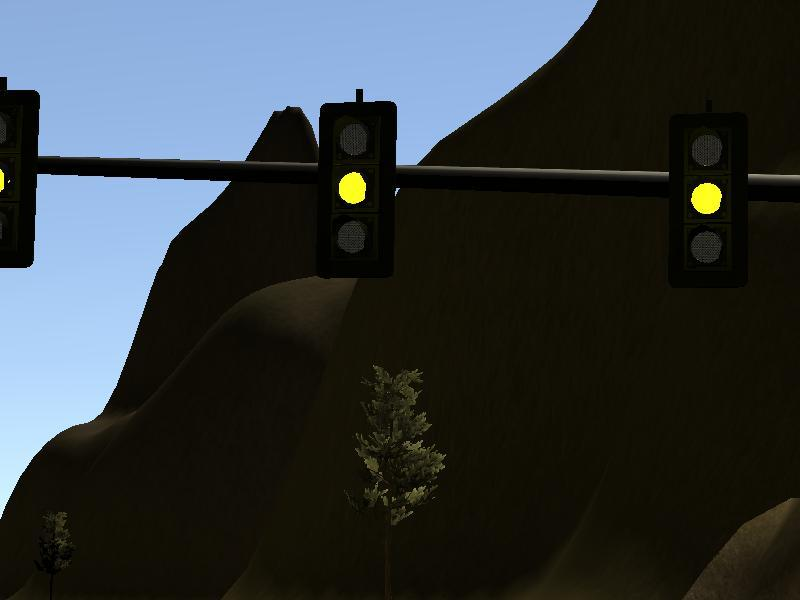Yellow: (312, 102, 398, 277), (670, 114, 749, 289), (1, 88, 41, 268)
